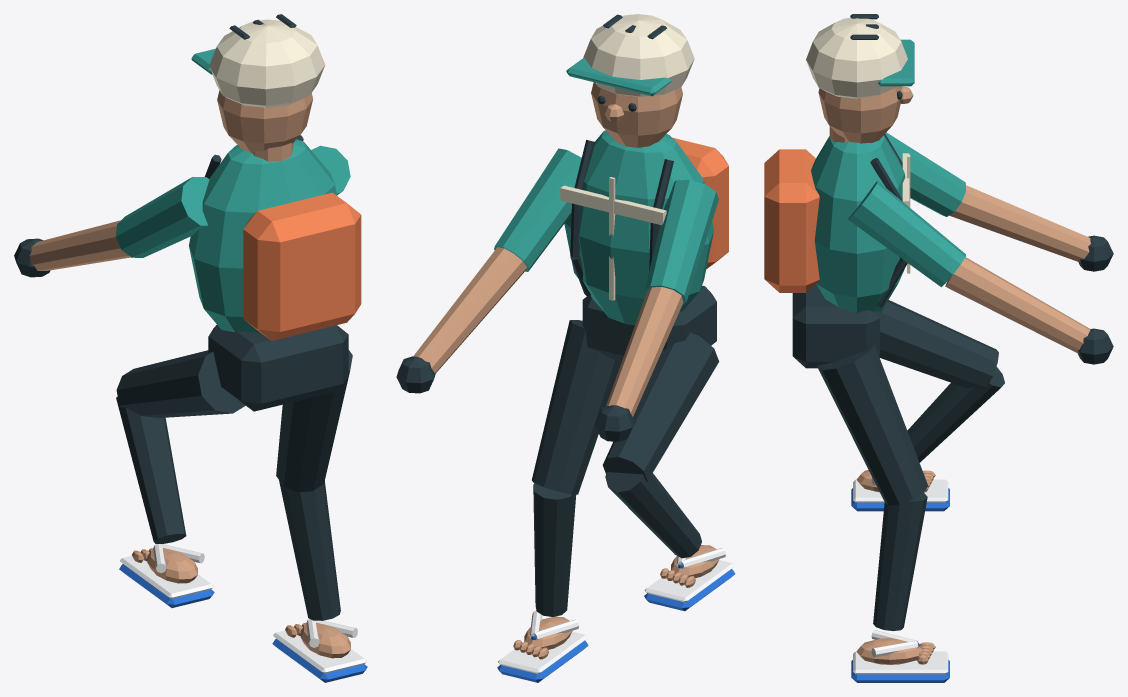
The model's file is rider.glb.
3 renders of one model, left to right at view 1: azimuth 30°, elevation 25°; view 2: azimuth 150°, elevation 25°; view 3: azimuth 270°, elevation 25°, orthographic. The views are drawn at different scales.
Parts seen in each view (by area): view 1: rider.Torso_Orange, rider.Torso_Teal, rider.Root_Dark, rider.Head_Cream, rider.Hip_-1_Dark, rider.Hip_1_Dark, rider.Knee_1_Dark, rider.Knee_-1_Dark, rider.Shoulder_L_Teal, rider.Head_Skin, rider.Elbow_-1_Skin, rider.Ankle_-1_SandalWhite (+7 smaller); view 2: rider.Torso_Teal, rider.Hip_1_Dark, rider.Hip_-1_Dark, rider.Head_Cream, rider.Shoulder_L_Teal, rider.Knee_1_Dark, rider.Shoulder_R_Teal, rider.Elbow_1_Skin, rider.Elbow_-1_Skin, rider.Knee_-1_Dark, rider.Root_Dark, rider.Head_Skin (+12 smaller); view 3: rider.Torso_Teal, rider.Hip_1_Dark, rider.Torso_Orange, rider.Hip_-1_Dark, rider.Head_Cream, rider.Shoulder_R_Teal, rider.Root_Dark, rider.Knee_1_Dark, rider.Elbow_1_Skin, rider.Elbow_-1_Skin, rider.Head_Skin, rider.Knee_-1_Dark (+10 smaller).
Part boxes in pixels (x1,y1,x2,y2): rider.Torso_Orange: [243, 192, 361, 340]; rider.Torso_Teal: [189, 139, 337, 332]; rider.Root_Dark: [208, 325, 348, 411]; rider.Head_Cream: [209, 19, 325, 107]; rider.Hip_-1_Dark: [116, 350, 245, 417]; rider.Hip_1_Dark: [276, 350, 352, 492]; rider.Knee_1_Dark: [279, 480, 340, 620]; rider.Knee_-1_Dark: [116, 397, 186, 543]; rider.Shoulder_L_Teal: [115, 177, 209, 257]; rider.Head_Skin: [217, 90, 312, 161]; rider.Elbow_-1_Skin: [29, 220, 130, 270]; rider.Ankle_-1_SandalWhite: [120, 544, 213, 598]; rider.Torso_Teal: [564, 130, 713, 325]; rider.Hip_1_Dark: [532, 320, 621, 494]; rider.Hip_-1_Dark: [602, 333, 719, 482]; rider.Head_Cream: [583, 14, 694, 97]; rider.Shoulder_L_Teal: [644, 180, 718, 304]; rider.Knee_1_Dark: [533, 483, 576, 616]; rider.Shoulder_R_Teal: [494, 148, 581, 271]; rider.Elbow_1_Skin: [413, 247, 526, 372]; rider.Elbow_-1_Skin: [606, 287, 683, 416]; rider.Knee_-1_Dark: [605, 472, 701, 558]; rider.Root_Dark: [582, 285, 716, 361]; rider.Head_Skin: [591, 82, 682, 147]; rider.Torso_Teal: [811, 135, 905, 312]; rider.Hip_1_Dark: [817, 344, 928, 505]; rider.Torso_Orange: [764, 149, 819, 292]; rider.Hip_-1_Dark: [879, 300, 998, 389]; rider.Head_Cream: [806, 17, 907, 98]; rider.Shoulder_R_Teal: [848, 181, 965, 287]; rider.Root_Dark: [792, 284, 879, 368]; rider.Knee_1_Dark: [873, 492, 927, 631]; rider.Elbow_1_Skin: [945, 257, 1090, 353]; rider.Elbow_-1_Skin: [949, 185, 1090, 262]; rider.Head_Skin: [818, 86, 913, 143]; rider.Knee_-1_Dark: [907, 366, 1004, 462].
Size of the model in its own units: 0.684 by 1.79 by 0.922.
